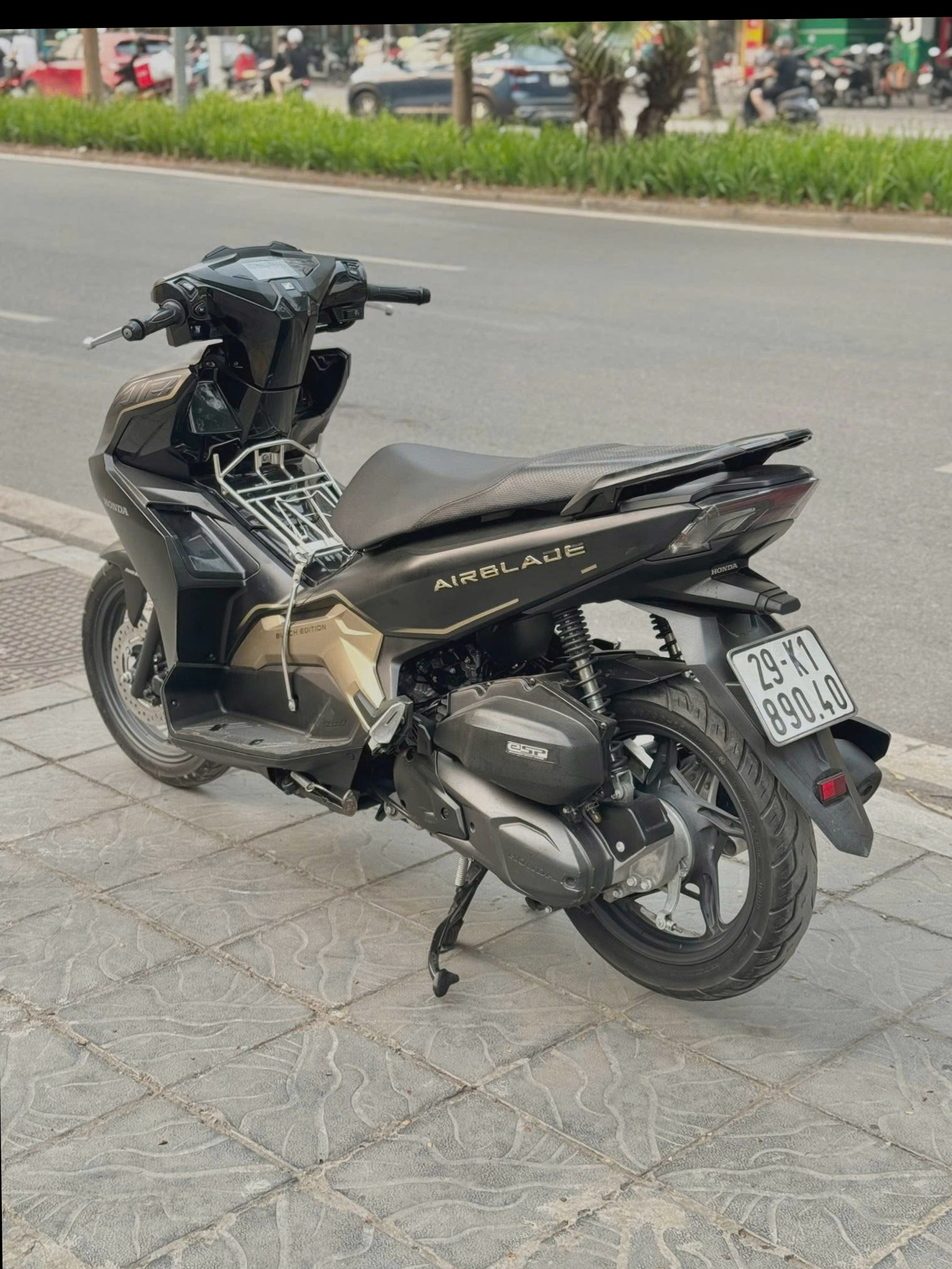Bien-so: (703, 610, 842, 737)
